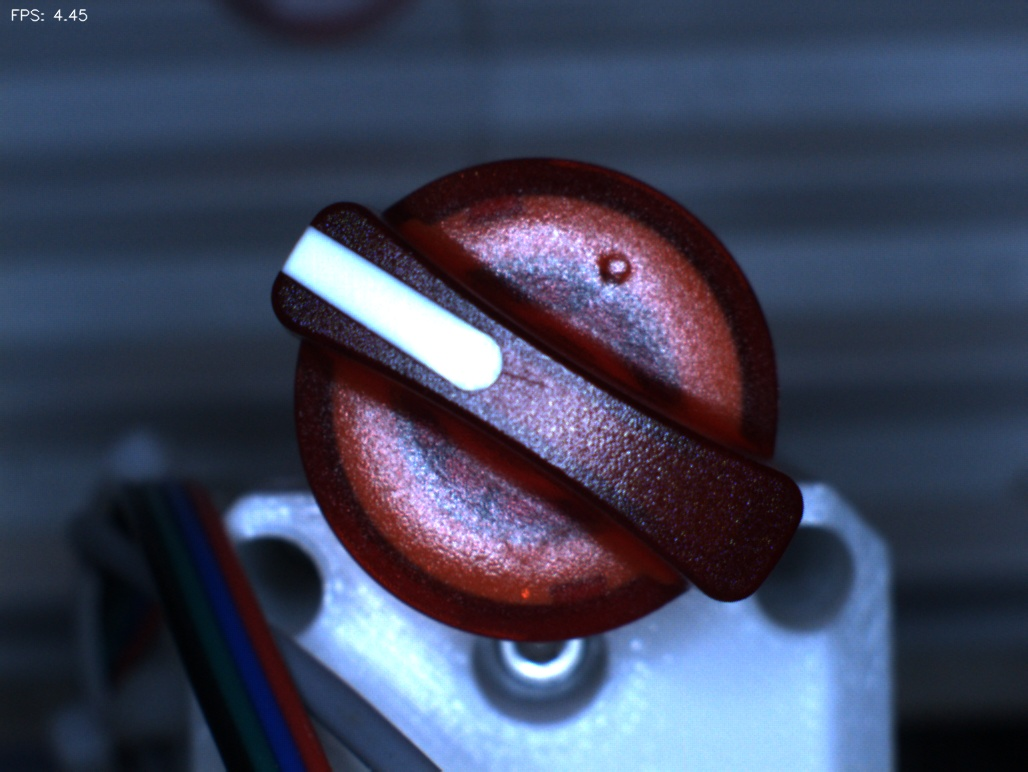Choc: (579, 233, 653, 307)
